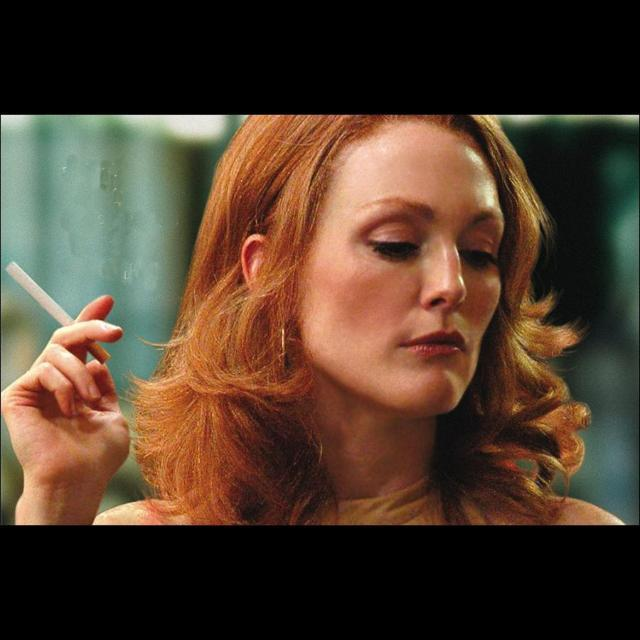rokok: (2, 254, 86, 332)
